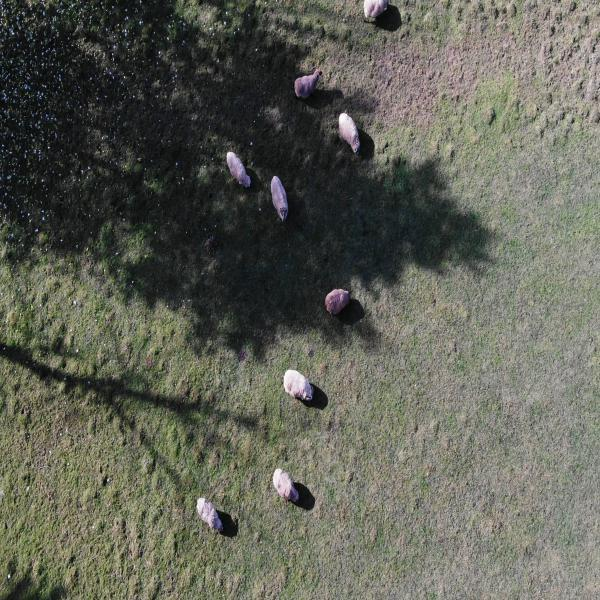sheep: (193, 494, 230, 545), (280, 362, 317, 412), (223, 142, 257, 194), (268, 173, 299, 226), (322, 277, 355, 325), (270, 462, 300, 513), (336, 107, 364, 159), (293, 59, 321, 97), (365, 0, 394, 28)
